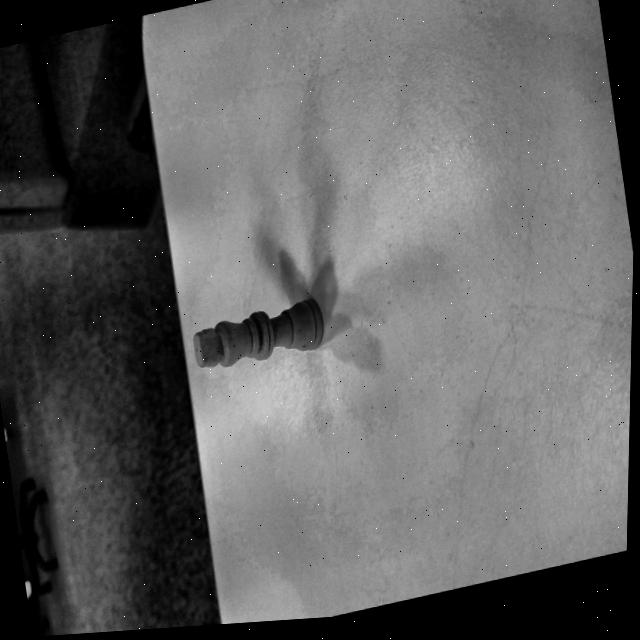white-king: (193, 297, 323, 367)
